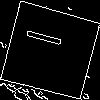I: (25, 26, 72, 51)
